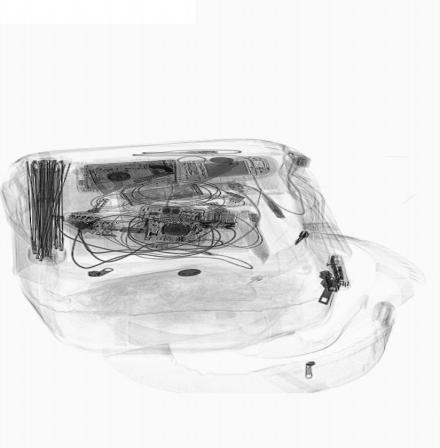Knife: (183, 160, 242, 188)
